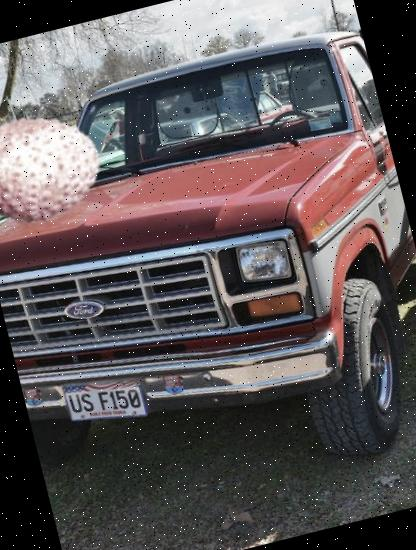Lychee: (0, 95, 116, 247)
